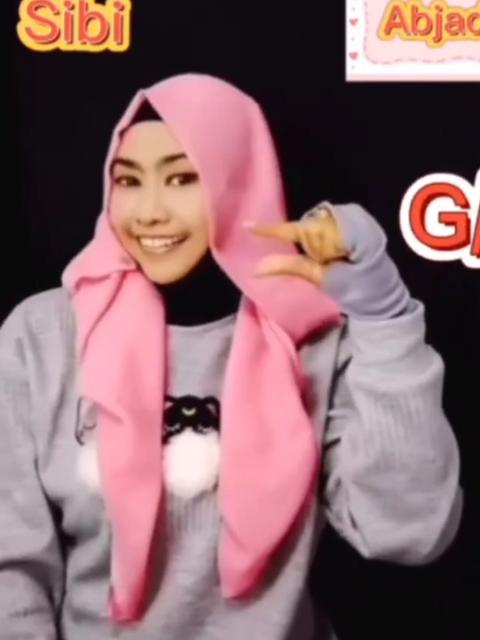G: (238, 213, 370, 289)
